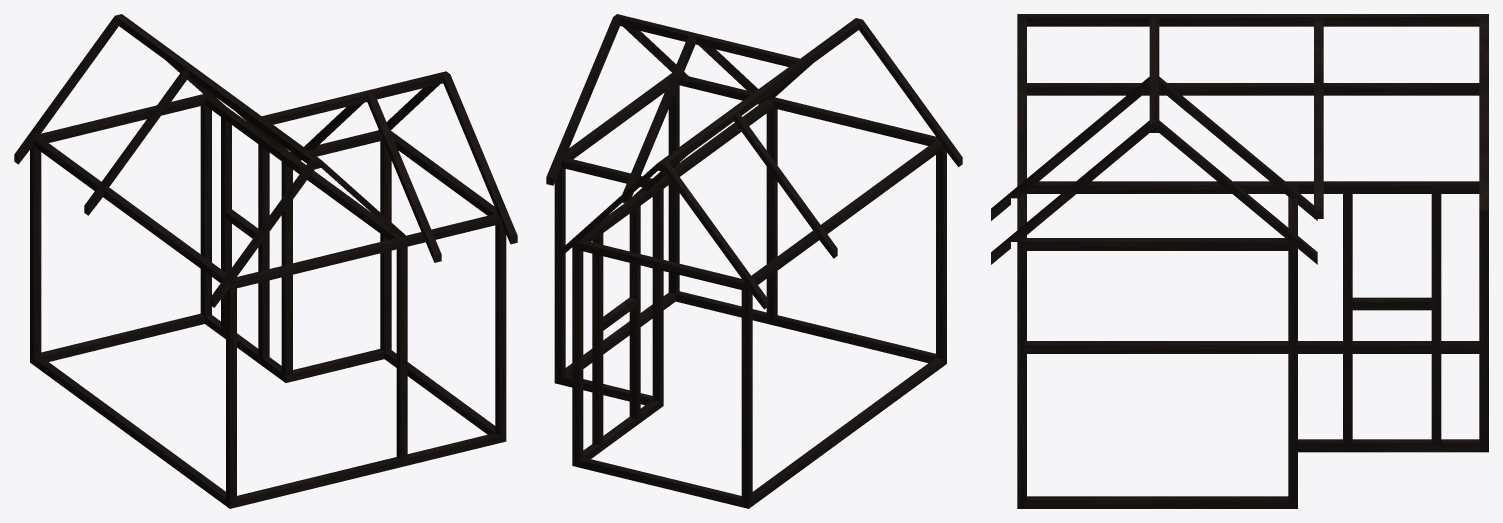
The model's file is h1_skeleton_00.fbx.
The picture shows the model from 3 angles, left to right: view 1: azimuth 30°, elevation 25°; view 2: azimuth 150°, elevation 25°; view 3: azimuth 270°, elevation 25°; orthographic projection. The views are drawn at different scales.
Visible parts, largest first — view 1: H1_Pillar.007, H1_Pillar.002, H1_Pillar.011, H1_Pillar.010, H1_Pillar.006, H1_Pillar.019, H1_Pillar.016, H1_Pillar.005, H1_Pillar.008, H1_Pillar, H1_Pillar.014, H1_Pillar.025 (+20 smaller); view 2: H1_Pillar.002, H1_Pillar.011, H1_Pillar.007, H1_Pillar.010, H1_Pillar.005, H1_Pillar, H1_Pillar.015, H1_Pillar.019, H1_Pillar.014, H1_Pillar.024, H1_Pillar.008, H1_Pillar.025 (+21 smaller); view 3: H1_Pillar.002, H1_Pillar.011, H1_Pillar.010, H1_Pillar.019, H1_Pillar.020, H1_Pillar.027, H1_Pillar.024, H1_Pillar.015, H1_Pillar.016, H1_Pillar.025, H1_Pillar.001, H1_Pillar (+9 smaller).
Boxes of the visible parts, box(x1,y1,x2,y2) form: H1_Pillar.007: box(229, 213, 501, 289); H1_Pillar.002: box(115, 14, 321, 169); H1_Pillar.011: box(34, 356, 225, 505); H1_Pillar.010: box(34, 137, 226, 282); H1_Pillar.006: box(396, 247, 407, 466); H1_Pillar.019: box(205, 96, 398, 239); H1_Pillar.016: box(495, 223, 506, 442); H1_Pillar.005: box(30, 146, 41, 365); H1_Pillar.008: box(226, 288, 236, 508); H1_Pillar: box(200, 105, 211, 316); H1_Pillar.014: box(281, 161, 292, 382); H1_Pillar.025: box(258, 144, 269, 358); H1_Pillar.002: box(657, 18, 862, 171); H1_Pillar.011: box(752, 358, 942, 505); H1_Pillar.007: box(669, 73, 943, 149); H1_Pillar.010: box(751, 140, 942, 284); H1_Pillar.005: box(741, 290, 752, 508); H1_Pillar: box(572, 249, 583, 467); H1_Pillar.015: box(554, 167, 565, 384); H1_Pillar.019: box(581, 99, 773, 241); H1_Pillar.014: box(652, 189, 663, 408); H1_Pillar.024: box(592, 233, 603, 445); H1_Pillar.008: box(936, 149, 946, 366); H1_Pillar.025: box(629, 206, 640, 418); H1_Pillar.002: box(1017, 14, 1488, 26); H1_Pillar.011: box(1027, 341, 1479, 353); H1_Pillar.010: box(1027, 83, 1479, 95); H1_Pillar.019: box(1027, 181, 1479, 193); H1_Pillar.020: box(1027, 238, 1297, 250); H1_Pillar.027: box(1027, 496, 1288, 508); H1_Pillar.024: box(1431, 194, 1441, 443); H1_Pillar.015: box(1288, 251, 1297, 508); H1_Pillar.016: box(1017, 251, 1026, 508); H1_Pillar.025: box(1343, 194, 1352, 443); H1_Pillar.001: box(1298, 439, 1479, 452); H1_Pillar: box(1479, 219, 1488, 452).
Size of the model in its own units: 629 by 671 by 787.
